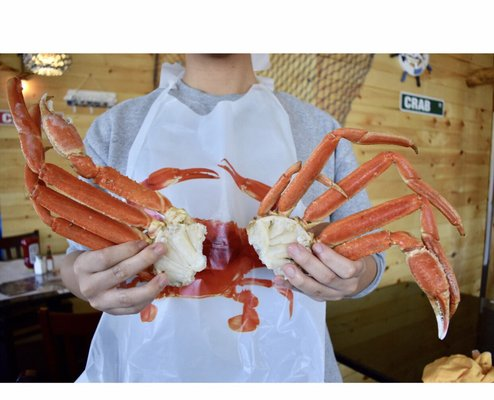soup: (17, 82, 210, 286)
